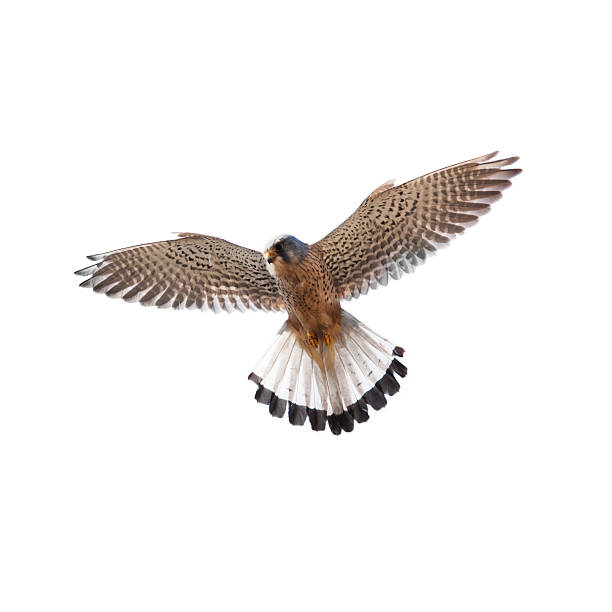Bird: (72, 147, 529, 440)
